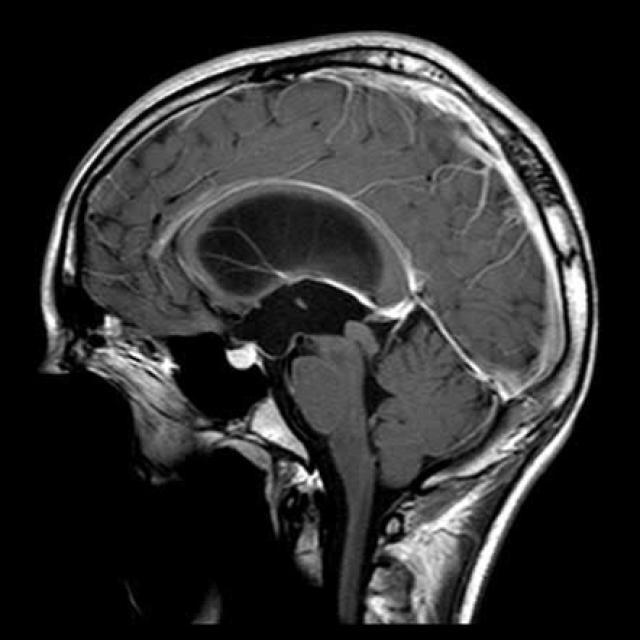glioma: (158, 178, 422, 322)
